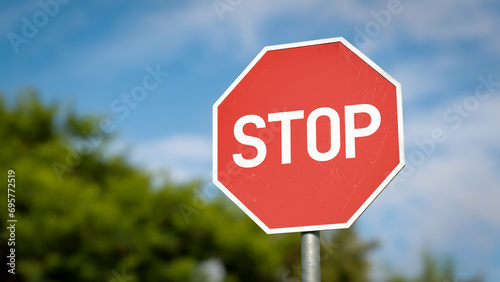StopSign: (211, 36, 405, 234)
